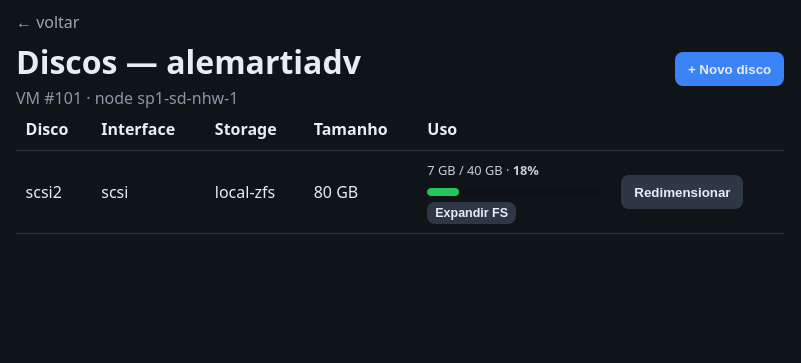
Test: Disks › Expandir FS que falha mostra o motivo ao usuário
The width and height of the screenshot is (801, 363).
Expected: the text "scsi2" is shown, [16,150,92,234]
What coordinates should you click on to do the following:
click the button "Expandir FS"
I would click on:
 (472, 213)
Its box is [427,202,516,224].
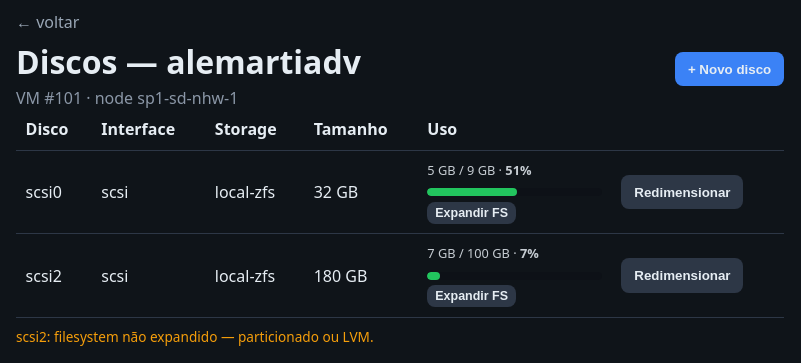
Expected: the text "scsi2: filesystem não expandido — particionado ou LVM." is shown, [16,327,374,346]
